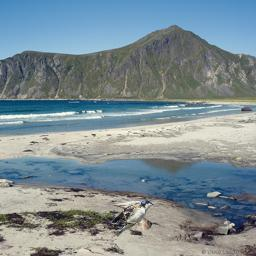Swallow: (104, 199, 154, 237)
